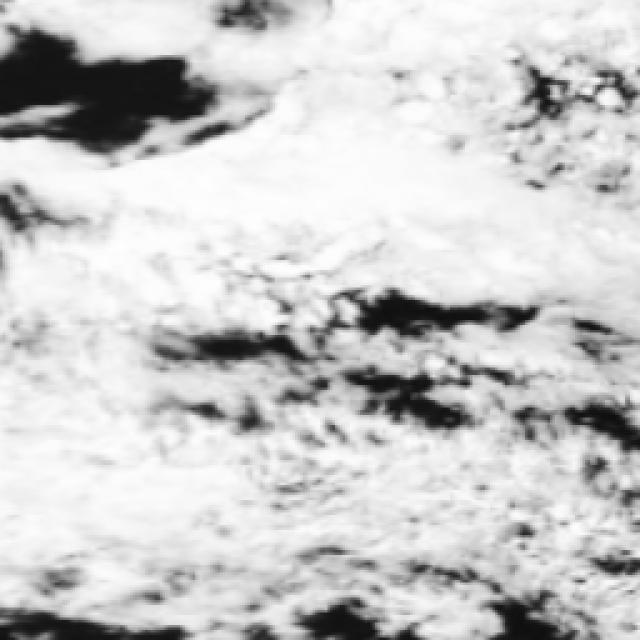CB: (223, 138, 474, 256), (32, 436, 238, 574), (434, 184, 640, 307), (100, 172, 318, 268)
